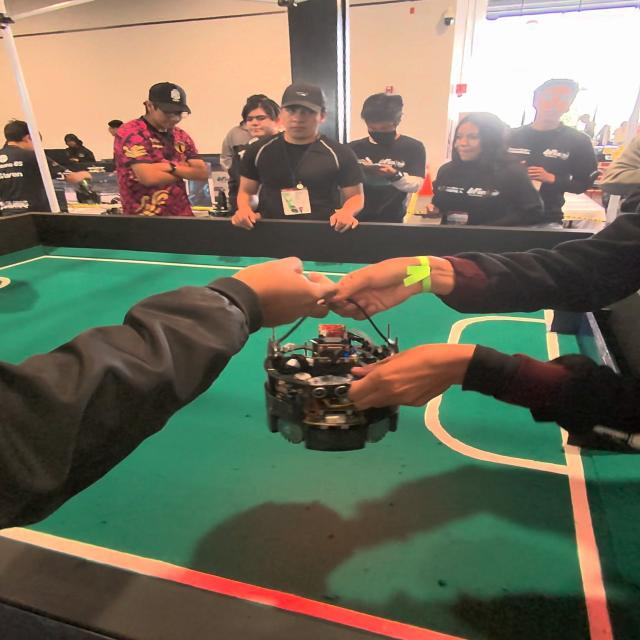Robot: (260, 312, 408, 459)
